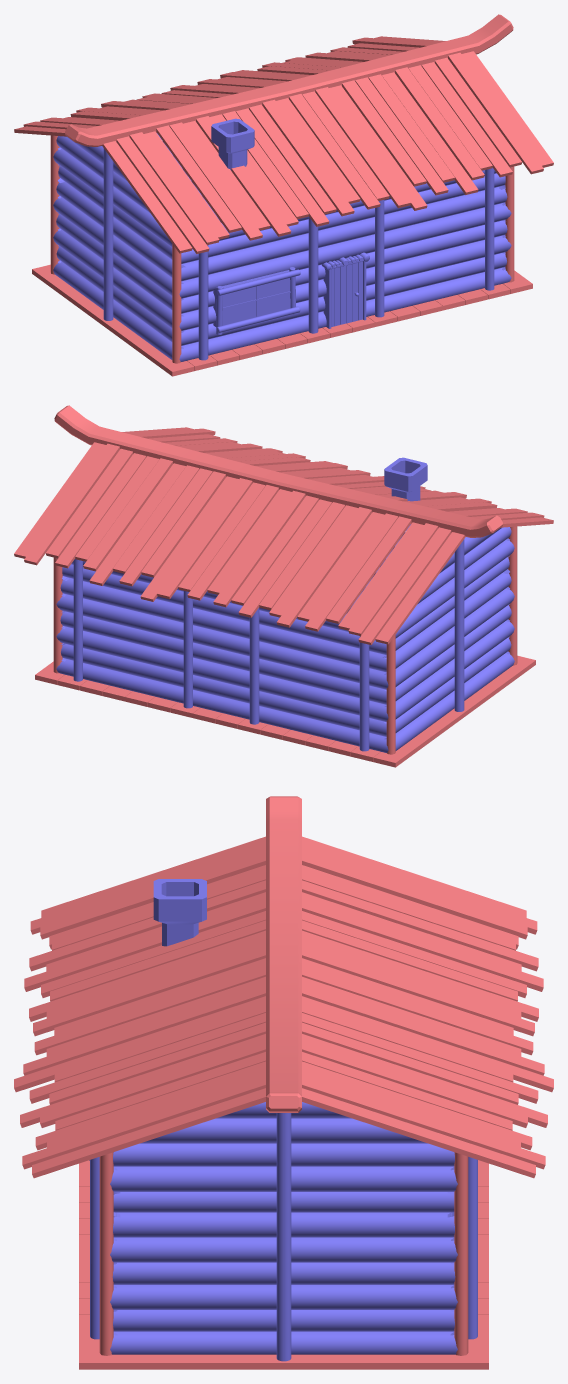
File: Full_Hut.fbx
The picture shows the model from 3 angles, top to bottom: view 1: azimuth 30°, elevation 25°; view 2: azimuth 150°, elevation 25°; view 3: azimuth 270°, elevation 25°; orthographic projection. The views are drawn at different scales.
Parts seen in each view (by area): view 1: Platform001, Object001; view 2: Platform001, Object001; view 3: Platform001, Object001.
Part boxes in pixels (x1,y1,x2,y2): Platform001: (14,14,553,376); Object001: (53,118,511,361); Platform001: (14,405,553,767); Object001: (56,457,514,752); Platform001: (14,796,553,1369); Object001: (89,879,477,1361).
Size of the model in its own units: 1632 by 746 by 1190.
